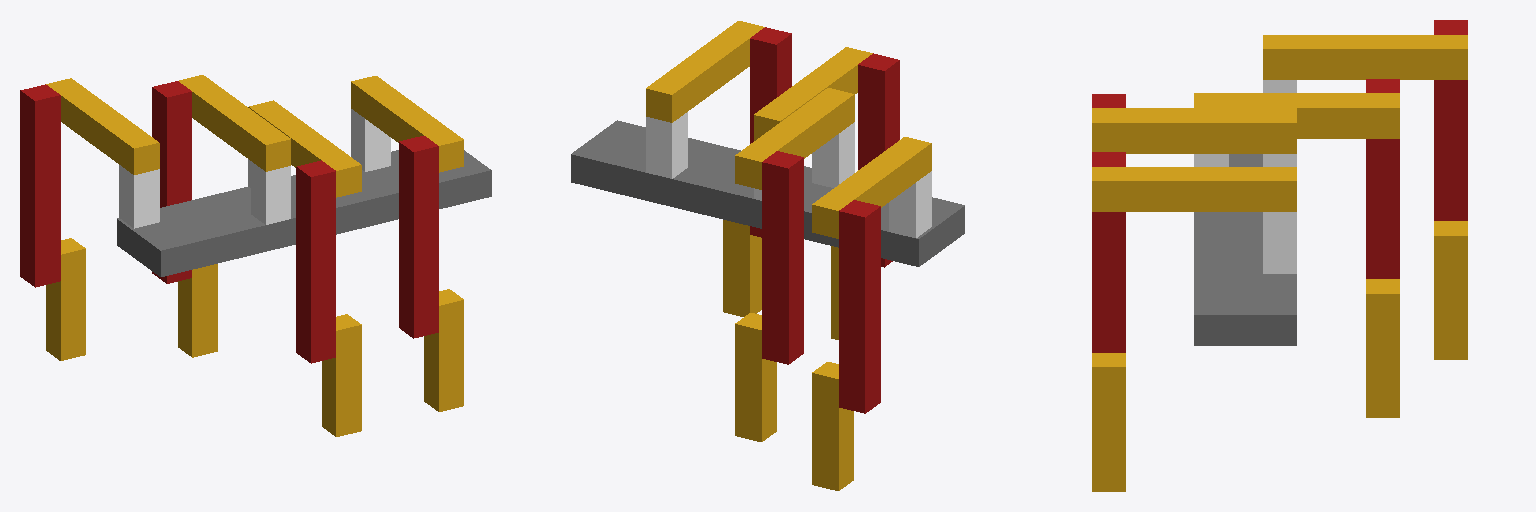
robot.urdf — v0:
<?xml version="1.0" encoding="utf-8"?>
<!-- =================================================================================== -->
<!-- |    This document was autogenerated by xacro from ../robots/v0variants/xacros/v0_4l_8.xacro | -->
<!-- |    EDITING THIS FILE BY HAND IS NOT RECOMMENDED                                 | -->
<!-- =================================================================================== -->
<robot name="v0">
  <material name="grey">
    <color rgba="0.5 0.5 0.5 1"/>
  </material>
  <material name="white">
    <color rgba="1 1 1 1"/>
  </material>
  <material name="yellow">
    <color rgba="0.91 0.7 0.14 1"/>
  </material>
  <material name="red">
    <color rgba="0.71 0.14 0.14 1"/>
  </material>
  <link name="body">
    <visual>
      <geometry>
        <box size="1.3 0.3 0.1"/>
      </geometry>
      <material name="grey"/>
      <origin rpy="0 0 0" xyz="0 0 0.7"/>
    </visual>
    <collision>
      <geometry>
        <box size="1.3 0.3 0.1"/>
      </geometry>
      <origin rpy="0 0 0" xyz="0 0 0.7"/>
    </collision>
    <inertial>
      <mass value="99.84"/>
      <inertia ixx="0.832" ixy="0.0" ixz="0.0" iyy="14.144" iyz="0.0" izz="14.8096"/>
    </inertial>
  </link>
  <link name="l1_segment_1">
    <visual>
      <geometry>
        <box size="0.1 0.1 0.2"/>
      </geometry>
      <material name="white"/>
      <origin rpy="0 0 0" xyz="0 0 0.1"/>
    </visual>
    <collision>
      <geometry>
        <box size="0.1 0.1 0.2"/>
      </geometry>
      <origin rpy="0 0 0" xyz="0 0 0.1"/>
    </collision>
    <inertial>
      <mass value="5.12"/>
      <inertia ixx="0.0213333333333" ixy="0.0" ixz="0.0" iyy="0.0213333333333" iyz="0.0" izz="0.00853333333333"/>
    </inertial>
  </link>
  <joint name="l1_base_to_joint_1" type="fixed">
    <parent link="body"/>
    <child link="l1_segment_1"/>
    <origin rpy="0 0 0" xyz="-0.5890873321453691 0.1 0.75"/>
  </joint>
  <link name="l1_segment_2_HIP">
    <visual>
      <geometry>
        <box size="0.1 0.6 0.1"/>
      </geometry>
      <material name="yellow"/>
      <origin rpy="0 0 0" xyz="0 0.25 0"/>
    </visual>
    <collision>
      <geometry>
        <box size="0.1 0.6 0.1"/>
      </geometry>
      <origin rpy="0 0 0" xyz="0 0.25 0"/>
    </collision>
    <inertial>
      <mass value="15.36"/>
      <inertia ixx="0.4736" ixy="0.0" ixz="0.0" iyy="0.0256" iyz="0.0" izz="0.4736"/>
    </inertial>
  </link>
  <joint name="l1_joint_1_to_2" type="revolute">
    <parent link="l1_segment_1"/>
    <child link="l1_segment_2_HIP"/>
    <origin rpy="0 0 0" xyz="0 0 0.25"/>
    <axis xyz="0.0 0.0 1.0"/>
    <limit effort="2048" lower="-1.2" upper="1.2" velocity="20"/>
  </joint>
  <link name="l1_segment_3_THIGH">
    <visual>
      <geometry>
        <box size="0.1 0.1 0.7"/>
      </geometry>
      <material name="red"/>
      <origin rpy="0 0 0" xyz="0 0 -0.3"/>
    </visual>
    <collision>
      <geometry>
        <box size="0.1 0.1 0.7"/>
      </geometry>
      <origin rpy="0 0 0" xyz="0 0 -0.3"/>
    </collision>
    <inertial>
      <mass value="17.92"/>
      <inertia ixx="0.746666666667" ixy="0.0" ixz="0.0" iyy="0.746666666667" iyz="0.0" izz="0.0298666666667"/>
    </inertial>
  </link>
  <joint name="l1_joint_2_to_3" type="revolute">
    <parent link="l1_segment_2_HIP"/>
    <child link="l1_segment_3_THIGH"/>
    <origin rpy="0 0 0" xyz="-0.1 0.5 0"/>
    <axis xyz="1.0 0.0 0.0"/>
    <limit effort="2048" lower="-0.2" upper="0.75" velocity="20"/>
  </joint>
  <link name="l1_segment_4_FOOT">
    <visual>
      <geometry>
        <box size="0.1 0.1 0.4"/>
      </geometry>
      <material name="yellow"/>
      <origin rpy="0 0 0" xyz="0 0 -0.2"/>
    </visual>
    <collision>
      <geometry>
        <box size="0.1 0.1 0.4"/>
      </geometry>
      <origin rpy="0 0 0" xyz="0 0 -0.2"/>
    </collision>
    <inertial>
      <mass value="10.24"/>
      <inertia ixx="0.145066666667" ixy="0.0" ixz="0.0" iyy="0.145066666667" iyz="0.0" izz="0.0170666666667"/>
    </inertial>
  </link>
  <joint name="l1_joint_3_to_4_FOOT" type="revolute">
    <parent link="l1_segment_3_THIGH"/>
    <child link="l1_segment_4_FOOT"/>
    <origin rpy="0 0 0" xyz="0.1 0 -0.55"/>
    <axis xyz="1.0 0.0 0.0"/>
    <limit effort="2048" lower="-0.2" upper="0.5" velocity="20"/>
  </joint>
  <link name="r2_segment_1">
    <visual>
      <geometry>
        <box size="0.1 0.1 0.2"/>
      </geometry>
      <material name="white"/>
      <origin rpy="0 0 0" xyz="0 0 0.1"/>
    </visual>
    <collision>
      <geometry>
        <box size="0.1 0.1 0.2"/>
      </geometry>
      <origin rpy="0 0 0" xyz="0 0 0.1"/>
    </collision>
    <inertial>
      <mass value="5.12"/>
      <inertia ixx="0.0213333333333" ixy="0.0" ixz="0.0" iyy="0.0213333333333" iyz="0.0" izz="0.00853333333333"/>
    </inertial>
  </link>
  <joint name="r2_base_to_joint_1" type="fixed">
    <parent link="body"/>
    <child link="r2_segment_1"/>
    <origin rpy="0 0 0" xyz="-0.08267530999761086 0.1 0.75"/>
  </joint>
  <link name="r2_segment_2_HIP">
    <visual>
      <geometry>
        <box size="0.1 0.6 0.1"/>
      </geometry>
      <material name="yellow"/>
      <origin rpy="0 0 0" xyz="0 -0.25 0"/>
    </visual>
    <collision>
      <geometry>
        <box size="0.1 0.6 0.1"/>
      </geometry>
      <origin rpy="0 0 0" xyz="0 -0.25 0"/>
    </collision>
    <inertial>
      <mass value="15.36"/>
      <inertia ixx="0.4736" ixy="0.0" ixz="0.0" iyy="0.0256" iyz="0.0" izz="0.4736"/>
    </inertial>
  </link>
  <joint name="r2_joint_1_to_2" type="revolute">
    <parent link="r2_segment_1"/>
    <child link="r2_segment_2_HIP"/>
    <origin rpy="0 0 0" xyz="0 0 0.25"/>
    <axis xyz="0.0 0.0 1.0"/>
    <limit effort="2048" lower="-1.2" upper="1.2" velocity="20"/>
  </joint>
  <link name="r2_segment_3_THIGH">
    <visual>
      <geometry>
        <box size="0.1 0.1 0.7"/>
      </geometry>
      <material name="red"/>
      <origin rpy="0 0 0" xyz="0 0 -0.3"/>
    </visual>
    <collision>
      <geometry>
        <box size="0.1 0.1 0.7"/>
      </geometry>
      <origin rpy="0 0 0" xyz="0 0 -0.3"/>
    </collision>
    <inertial>
      <mass value="17.92"/>
      <inertia ixx="0.746666666667" ixy="0.0" ixz="0.0" iyy="0.746666666667" iyz="0.0" izz="0.0298666666667"/>
    </inertial>
  </link>
  <joint name="r2_joint_2_to_3" type="revolute">
    <parent link="r2_segment_2_HIP"/>
    <child link="r2_segment_3_THIGH"/>
    <origin rpy="0 0 0" xyz="-0.1 -0.5 0"/>
    <axis xyz="1.0 0.0 0.0"/>
    <limit effort="2048" lower="-0.75" upper="0.2" velocity="20"/>
  </joint>
  <link name="r2_segment_4_FOOT">
    <visual>
      <geometry>
        <box size="0.1 0.1 0.4"/>
      </geometry>
      <material name="yellow"/>
      <origin rpy="0 0 0" xyz="0 0 -0.2"/>
    </visual>
    <collision>
      <geometry>
        <box size="0.1 0.1 0.4"/>
      </geometry>
      <origin rpy="0 0 0" xyz="0 0 -0.2"/>
    </collision>
    <inertial>
      <mass value="10.24"/>
      <inertia ixx="0.145066666667" ixy="0.0" ixz="0.0" iyy="0.145066666667" iyz="0.0" izz="0.0170666666667"/>
    </inertial>
  </link>
  <joint name="r2_joint_3_to_4_FOOT" type="revolute">
    <parent link="r2_segment_3_THIGH"/>
    <child link="r2_segment_4_FOOT"/>
    <origin rpy="0 0 0" xyz="0.1 0 -0.55"/>
    <axis xyz="1.0 0.0 0.0"/>
    <limit effort="2048" lower="-0.5" upper="0.2" velocity="20"/>
  </joint>
  <link name="l3_segment_1">
    <visual>
      <geometry>
        <box size="0.1 0.1 0.2"/>
      </geometry>
      <material name="white"/>
      <origin rpy="0 0 0" xyz="0 0 0.1"/>
    </visual>
    <collision>
      <geometry>
        <box size="0.1 0.1 0.2"/>
      </geometry>
      <origin rpy="0 0 0" xyz="0 0 0.1"/>
    </collision>
    <inertial>
      <mass value="5.12"/>
      <inertia ixx="0.0213333333333" ixy="0.0" ixz="0.0" iyy="0.0213333333333" iyz="0.0" izz="0.00853333333333"/>
    </inertial>
  </link>
  <joint name="l3_base_to_joint_1" type="fixed">
    <parent link="body"/>
    <child link="l3_segment_1"/>
    <origin rpy="0 0 0" xyz="-0.1866165090629665 -0.1 0.75"/>
  </joint>
  <link name="l3_segment_2_HIP">
    <visual>
      <geometry>
        <box size="0.1 0.6 0.1"/>
      </geometry>
      <material name="yellow"/>
      <origin rpy="0 0 0" xyz="0 0.25 0"/>
    </visual>
    <collision>
      <geometry>
        <box size="0.1 0.6 0.1"/>
      </geometry>
      <origin rpy="0 0 0" xyz="0 0.25 0"/>
    </collision>
    <inertial>
      <mass value="15.36"/>
      <inertia ixx="0.4736" ixy="0.0" ixz="0.0" iyy="0.0256" iyz="0.0" izz="0.4736"/>
    </inertial>
  </link>
  <joint name="l3_joint_1_to_2" type="revolute">
    <parent link="l3_segment_1"/>
    <child link="l3_segment_2_HIP"/>
    <origin rpy="0 0 0" xyz="0 0 0.25"/>
    <axis xyz="0.0 0.0 1.0"/>
    <limit effort="2048" lower="-1.2" upper="1.2" velocity="20"/>
  </joint>
  <link name="l3_segment_3_THIGH">
    <visual>
      <geometry>
        <box size="0.1 0.1 0.7"/>
      </geometry>
      <material name="red"/>
      <origin rpy="0 0 0" xyz="0 0 -0.3"/>
    </visual>
    <collision>
      <geometry>
        <box size="0.1 0.1 0.7"/>
      </geometry>
      <origin rpy="0 0 0" xyz="0 0 -0.3"/>
    </collision>
    <inertial>
      <mass value="17.92"/>
      <inertia ixx="0.746666666667" ixy="0.0" ixz="0.0" iyy="0.746666666667" iyz="0.0" izz="0.0298666666667"/>
    </inertial>
  </link>
  <joint name="l3_joint_2_to_3" type="revolute">
    <parent link="l3_segment_2_HIP"/>
    <child link="l3_segment_3_THIGH"/>
    <origin rpy="0 0 0" xyz="-0.1 0.5 0"/>
    <axis xyz="1.0 0.0 0.0"/>
    <limit effort="2048" lower="-0.2" upper="0.75" velocity="20"/>
  </joint>
  <link name="l3_segment_4_FOOT">
    <visual>
      <geometry>
        <box size="0.1 0.1 0.4"/>
      </geometry>
      <material name="yellow"/>
      <origin rpy="0 0 0" xyz="0 0 -0.2"/>
    </visual>
    <collision>
      <geometry>
        <box size="0.1 0.1 0.4"/>
      </geometry>
      <origin rpy="0 0 0" xyz="0 0 -0.2"/>
    </collision>
    <inertial>
      <mass value="10.24"/>
      <inertia ixx="0.145066666667" ixy="0.0" ixz="0.0" iyy="0.145066666667" iyz="0.0" izz="0.0170666666667"/>
    </inertial>
  </link>
  <joint name="l3_joint_3_to_4_FOOT" type="revolute">
    <parent link="l3_segment_3_THIGH"/>
    <child link="l3_segment_4_FOOT"/>
    <origin rpy="0 0 0" xyz="0.1 0 -0.55"/>
    <axis xyz="1.0 0.0 0.0"/>
    <limit effort="2048" lower="-0.2" upper="0.5" velocity="20"/>
  </joint>
  <link name="r4_segment_1">
    <visual>
      <geometry>
        <box size="0.1 0.1 0.2"/>
      </geometry>
      <material name="white"/>
      <origin rpy="0 0 0" xyz="0 0 0.1"/>
    </visual>
    <collision>
      <geometry>
        <box size="0.1 0.1 0.2"/>
      </geometry>
      <origin rpy="0 0 0" xyz="0 0 0.1"/>
    </collision>
    <inertial>
      <mass value="5.12"/>
      <inertia ixx="0.0213333333333" ixy="0.0" ixz="0.0" iyy="0.0213333333333" iyz="0.0" izz="0.00853333333333"/>
    </inertial>
  </link>
  <joint name="r4_base_to_joint_1" type="fixed">
    <parent link="body"/>
    <child link="r4_segment_1"/>
    <origin rpy="0 0 0" xyz="0.32023699405339756 0.1 0.75"/>
  </joint>
  <link name="r4_segment_2_HIP">
    <visual>
      <geometry>
        <box size="0.1 0.6 0.1"/>
      </geometry>
      <material name="yellow"/>
      <origin rpy="0 0 0" xyz="0 -0.25 0"/>
    </visual>
    <collision>
      <geometry>
        <box size="0.1 0.6 0.1"/>
      </geometry>
      <origin rpy="0 0 0" xyz="0 -0.25 0"/>
    </collision>
    <inertial>
      <mass value="15.36"/>
      <inertia ixx="0.4736" ixy="0.0" ixz="0.0" iyy="0.0256" iyz="0.0" izz="0.4736"/>
    </inertial>
  </link>
  <joint name="r4_joint_1_to_2" type="revolute">
    <parent link="r4_segment_1"/>
    <child link="r4_segment_2_HIP"/>
    <origin rpy="0 0 0" xyz="0 0 0.25"/>
    <axis xyz="0.0 0.0 1.0"/>
    <limit effort="2048" lower="-1.2" upper="1.2" velocity="20"/>
  </joint>
  <link name="r4_segment_3_THIGH">
    <visual>
      <geometry>
        <box size="0.1 0.1 0.7"/>
      </geometry>
      <material name="red"/>
      <origin rpy="0 0 0" xyz="0 0 -0.3"/>
    </visual>
    <collision>
      <geometry>
        <box size="0.1 0.1 0.7"/>
      </geometry>
      <origin rpy="0 0 0" xyz="0 0 -0.3"/>
    </collision>
    <inertial>
      <mass value="17.92"/>
      <inertia ixx="0.746666666667" ixy="0.0" ixz="0.0" iyy="0.746666666667" iyz="0.0" izz="0.0298666666667"/>
    </inertial>
  </link>
  <joint name="r4_joint_2_to_3" type="revolute">
    <parent link="r4_segment_2_HIP"/>
    <child link="r4_segment_3_THIGH"/>
    <origin rpy="0 0 0" xyz="-0.1 -0.5 0"/>
    <axis xyz="1.0 0.0 0.0"/>
    <limit effort="2048" lower="-0.75" upper="0.2" velocity="20"/>
  </joint>
  <link name="r4_segment_4_FOOT">
    <visual>
      <geometry>
        <box size="0.1 0.1 0.4"/>
      </geometry>
      <material name="yellow"/>
      <origin rpy="0 0 0" xyz="0 0 -0.2"/>
    </visual>
    <collision>
      <geometry>
        <box size="0.1 0.1 0.4"/>
      </geometry>
      <origin rpy="0 0 0" xyz="0 0 -0.2"/>
    </collision>
    <inertial>
      <mass value="10.24"/>
      <inertia ixx="0.145066666667" ixy="0.0" ixz="0.0" iyy="0.145066666667" iyz="0.0" izz="0.0170666666667"/>
    </inertial>
  </link>
  <joint name="r4_joint_3_to_4_FOOT" type="revolute">
    <parent link="r4_segment_3_THIGH"/>
    <child link="r4_segment_4_FOOT"/>
    <origin rpy="0 0 0" xyz="0.1 0 -0.55"/>
    <axis xyz="1.0 0.0 0.0"/>
    <limit effort="2048" lower="-0.5" upper="0.2" velocity="20"/>
  </joint>
</robot>

--- Facts derived from the render (not from the file) ---
The picture shows the robot from 3 angles, left to right: view 1: azimuth 30°, elevation 25°; view 2: azimuth 150°, elevation 25°; view 3: azimuth 270°, elevation 25°; orthographic projection.
Model v0 with 17 links and 16 joints (12 revolute, 4 fixed), rooted at body, posed every joint at zero.
Links seen in each view (by area): view 1: body, l1_segment_3_THIGH, r4_segment_3_THIGH, r2_segment_3_THIGH, l3_segment_2_HIP, l1_segment_2_HIP, l3_segment_3_THIGH, r4_segment_2_HIP, r2_segment_4_FOOT, l1_segment_4_FOOT, r4_segment_4_FOOT, r2_segment_2_HIP (+4 smaller); view 2: body, l1_segment_3_THIGH, l3_segment_3_THIGH, r4_segment_2_HIP, l1_segment_2_HIP, l3_segment_2_HIP, l3_segment_4_FOOT, l1_segment_4_FOOT, r2_segment_3_THIGH, r4_segment_4_FOOT, r2_segment_2_HIP, r4_segment_3_THIGH (+4 smaller); view 3: body, r2_segment_2_HIP, r4_segment_2_HIP, l1_segment_2_HIP, l3_segment_2_HIP, l1_segment_3_THIGH, r4_segment_3_THIGH, l3_segment_3_THIGH, l1_segment_4_FOOT, l3_segment_4_FOOT, r4_segment_4_FOOT, r4_segment_1.
Link boxes in pixels (x1,y1,x2,y2): body: (117,150,491,276); l1_segment_3_THIGH: (20,84,60,287); r4_segment_3_THIGH: (399,136,438,338); r2_segment_3_THIGH: (296,160,335,363); l3_segment_2_HIP: (179,75,290,171); l1_segment_2_HIP: (46,78,159,174); l3_segment_3_THIGH: (152,81,191,283); r4_segment_2_HIP: (351,76,463,172); r2_segment_4_FOOT: (322,314,361,436); l1_segment_4_FOOT: (46,238,85,360); r4_segment_4_FOOT: (424,289,463,411); r2_segment_2_HIP: (248,100,361,197); body: (571,120,964,266); l1_segment_3_THIGH: (839,200,880,413); l3_segment_3_THIGH: (762,151,803,364); r4_segment_2_HIP: (646,21,764,122); l1_segment_2_HIP: (812,137,931,238); l3_segment_2_HIP: (735,88,854,189); l3_segment_4_FOOT: (735,313,776,441); l1_segment_4_FOOT: (812,362,853,490); r2_segment_3_THIGH: (858,53,899,267); r4_segment_4_FOOT: (723,220,761,316); r2_segment_2_HIP: (754,47,872,140); r4_segment_3_THIGH: (750,27,791,237); body: (1194,154,1296,345); r2_segment_2_HIP: (1092,108,1296,153); r4_segment_2_HIP: (1092,167,1296,211); l1_segment_2_HIP: (1263,35,1467,79); l3_segment_2_HIP: (1194,93,1399,138); l1_segment_3_THIGH: (1434,20,1467,220); r4_segment_3_THIGH: (1092,152,1125,352); l3_segment_3_THIGH: (1366,79,1399,278); l1_segment_4_FOOT: (1434,221,1467,359); l3_segment_4_FOOT: (1366,279,1399,417); r4_segment_4_FOOT: (1092,353,1125,491); r4_segment_1: (1263,212,1296,273).
Bounding box of the posed robot: 1.39 × 1.1 × 1 m (x, y, z).
Geometry: primitives only (box / cylinder / sphere), no mesh files.